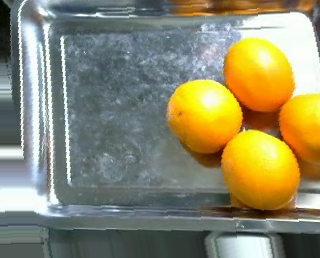Orange: (221, 130, 301, 210), (167, 78, 243, 154), (224, 38, 296, 112)
